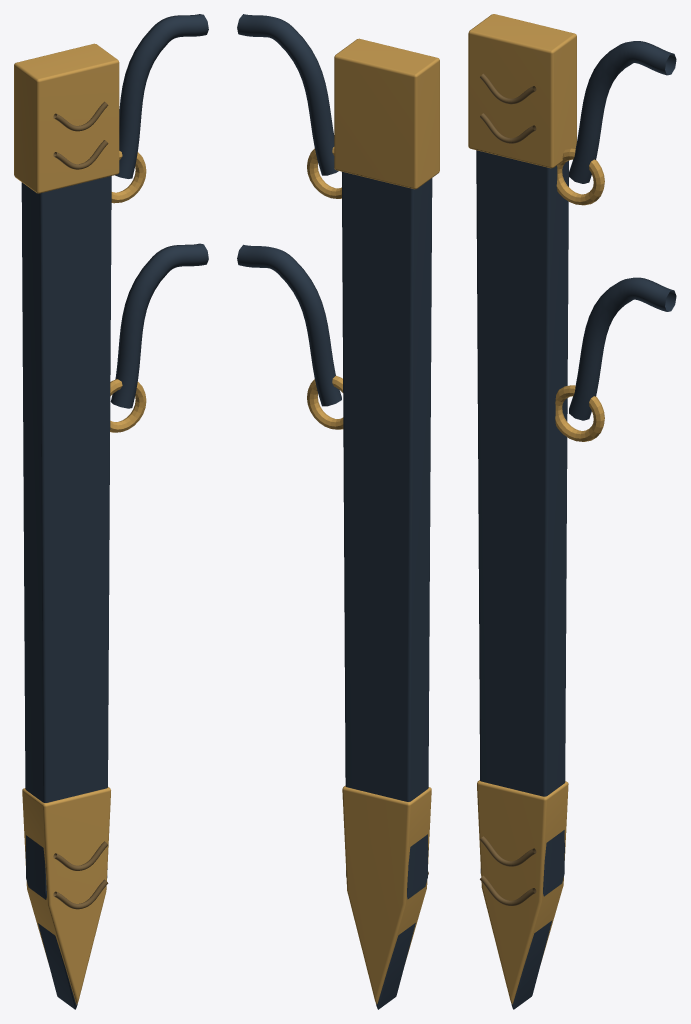
The model's file is EDH_Sariwa_Scabbard.glb.
3 renders of one model, left to right at view 1: azimuth 30°, elevation 25°; view 2: azimuth 150°, elevation 25°; view 3: azimuth 330°, elevation 25°, orthographic. The views are drawn at different scales.
Visible parts, largest first — view 1: Scabbard | leather shell, Scabbard | bronze mouth, Scabbard | bronze chape, Scabbard | belt hanger.001, Scabbard | belt hanger, Scabbard | belt suspension ring.001, Scabbard | belt suspension ring; view 2: Scabbard | leather shell, Scabbard | bronze mouth, Scabbard | bronze chape, Scabbard | belt hanger.001, Scabbard | belt hanger, Scabbard | belt suspension ring.001, Scabbard | belt suspension ring; view 3: Scabbard | leather shell, Scabbard | bronze mouth, Scabbard | bronze chape, Scabbard | belt hanger.001, Scabbard | belt hanger, Scabbard | belt suspension ring.001, Scabbard | belt suspension ring.
Part boxes in pixels (x1,y1,x2,y2): Scabbard | leather shell: [21, 176, 111, 1009]; Scabbard | bronze mouth: [14, 43, 119, 193]; Scabbard | bronze chape: [22, 787, 110, 1004]; Scabbard | belt hanger.001: [110, 243, 208, 408]; Scabbard | belt hanger: [115, 14, 208, 178]; Scabbard | belt suspension ring.001: [110, 379, 146, 432]; Scabbard | belt suspension ring: [111, 151, 146, 203]; Scabbard | leather shell: [342, 171, 432, 1009]; Scabbard | bronze mouth: [334, 38, 439, 189]; Scabbard | bronze chape: [342, 785, 431, 1004]; Scabbard | belt hanger.001: [237, 244, 341, 406]; Scabbard | belt hanger: [237, 14, 338, 175]; Scabbard | belt suspension ring.001: [307, 375, 343, 429]; Scabbard | belt suspension ring: [307, 147, 341, 198]; Scabbard | leather shell: [476, 150, 568, 1009]; Scabbard | bronze mouth: [468, 14, 576, 168]; Scabbard | bronze chape: [477, 780, 568, 1004]; Scabbard | belt hanger.001: [569, 277, 676, 420]; Scabbard | belt hanger: [569, 41, 676, 183]; Scabbard | belt suspension ring.001: [555, 385, 604, 441]; Scabbard | belt suspension ring: [556, 148, 604, 205].
Size of the model in its own units: 0.149 by 0.7503 by 0.0405.
